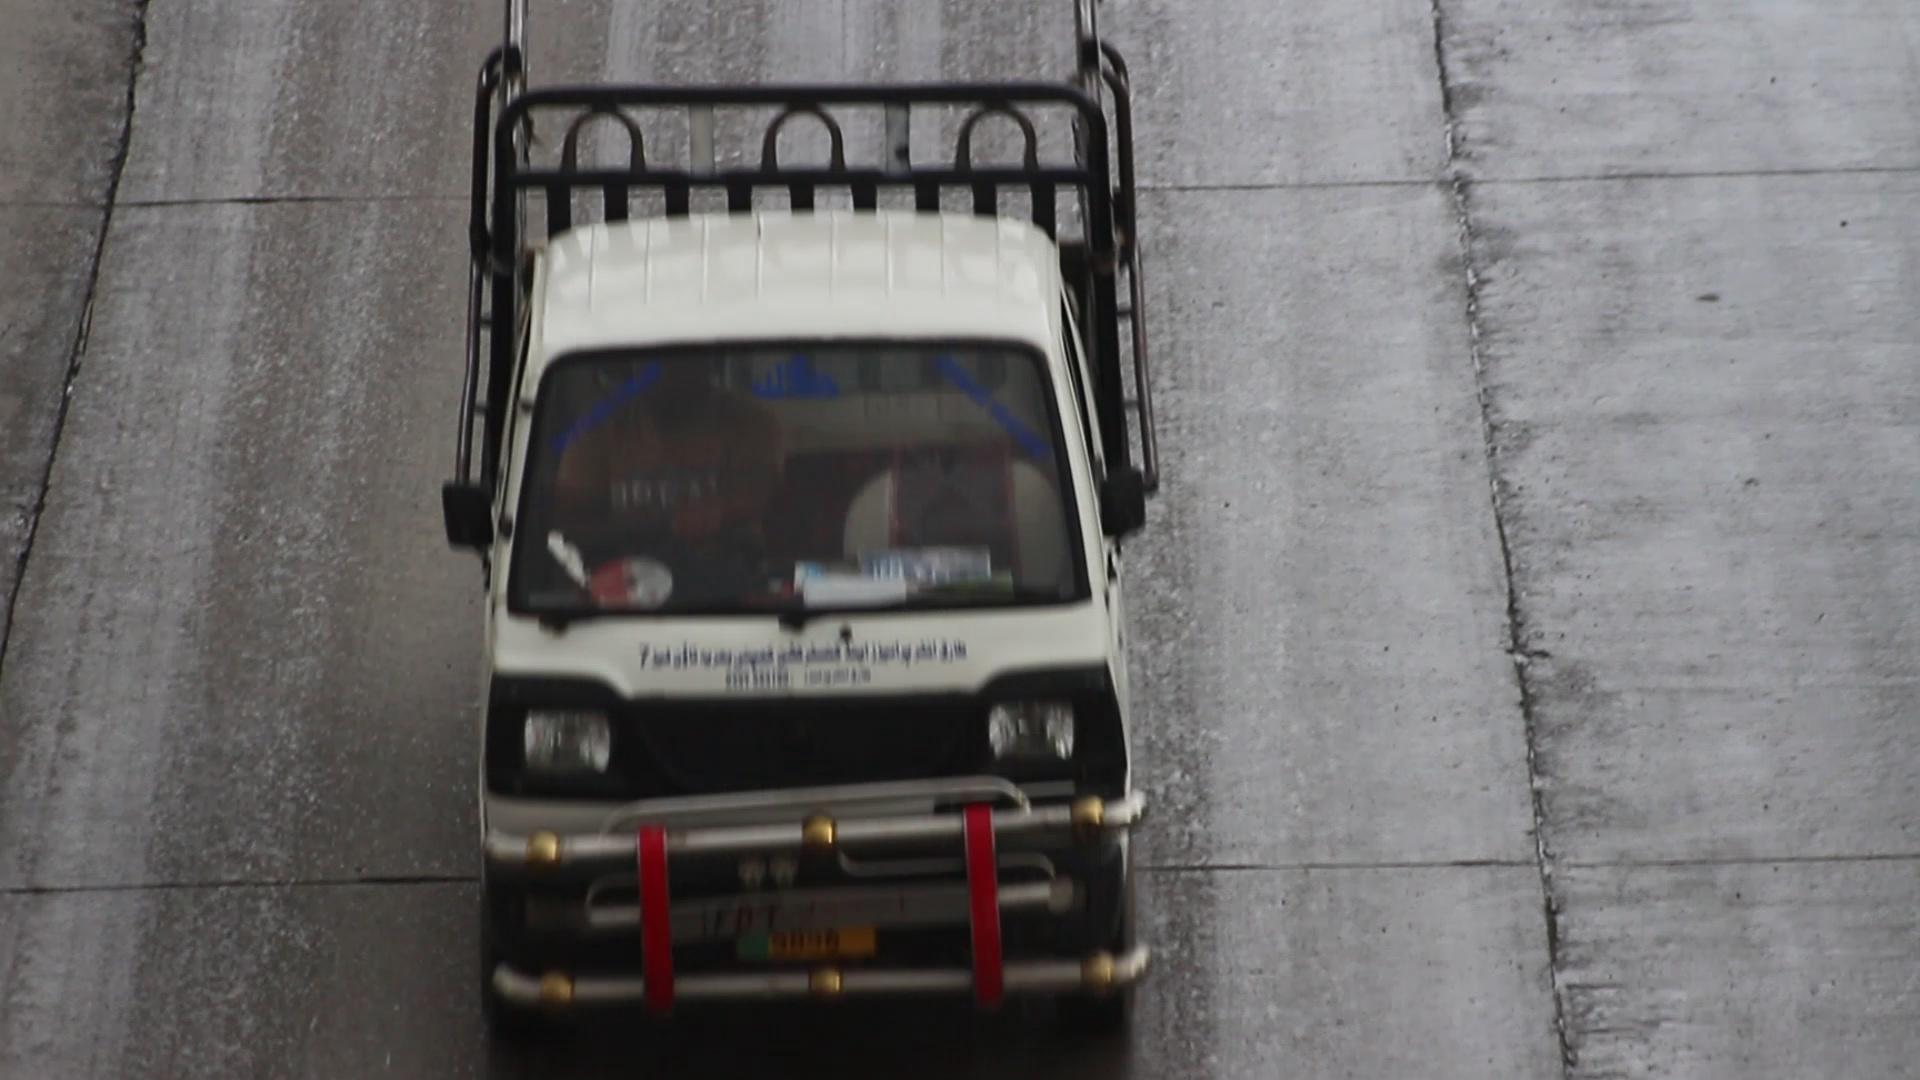windshield: (504, 330, 1097, 640)
